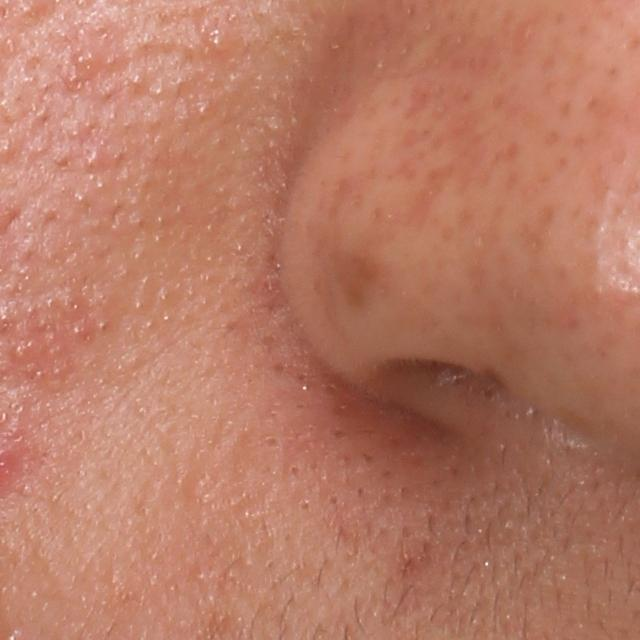comedo: (81, 145, 110, 172), (257, 435, 283, 454), (126, 69, 146, 91)
